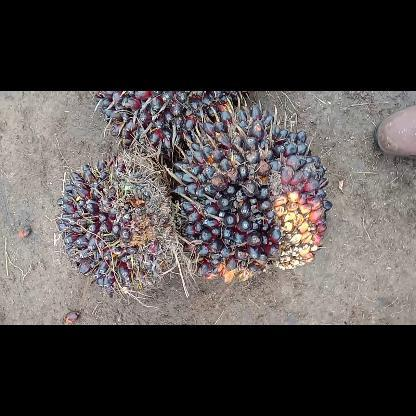TBS mentah: (168, 104, 334, 288), (52, 152, 186, 298), (90, 91, 252, 165)
